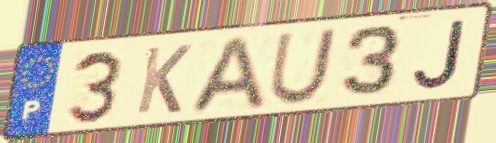3: (63, 46, 125, 126), (340, 24, 406, 99)
A: (183, 33, 270, 118)
J: (410, 17, 468, 92)
K: (132, 43, 195, 117)
U: (265, 26, 341, 107)
